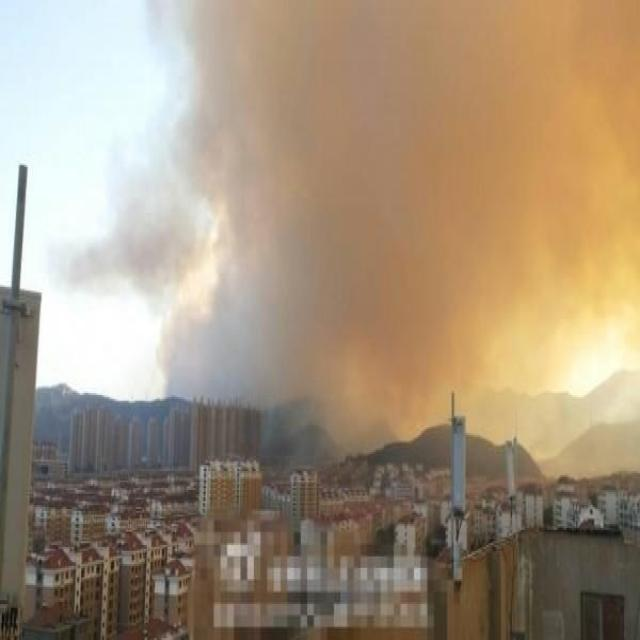Smoke: (49, 2, 640, 467)
